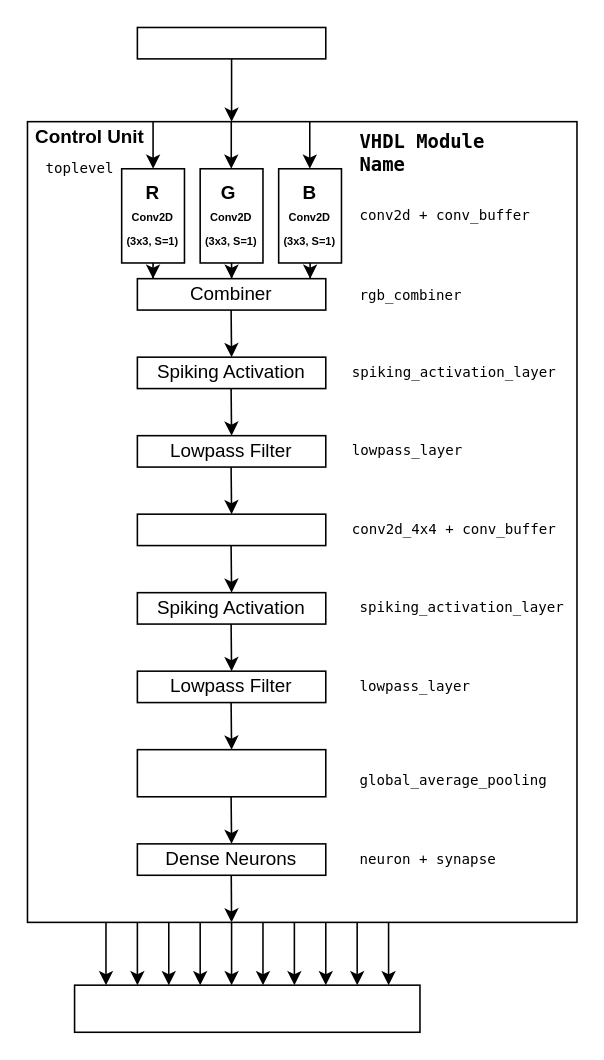
This 604x1060 diagram has some shape labels left out. The centre of each missing label's shape, as x and y in pixels:
"Conv2D (4x4, S=2)" goes at (231,529).
"Final Output" goes at (246,1008).
"Global Average Pooling" goes at (231,772).
"Input Image" goes at (231,42).
